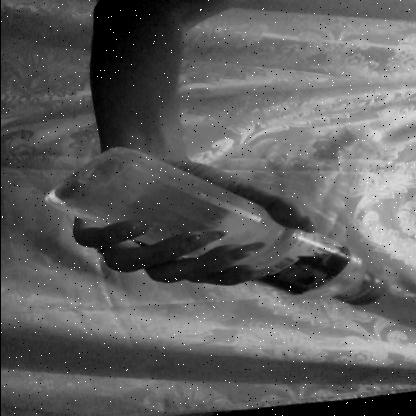Plastic Bottle: (53, 156, 388, 308)
